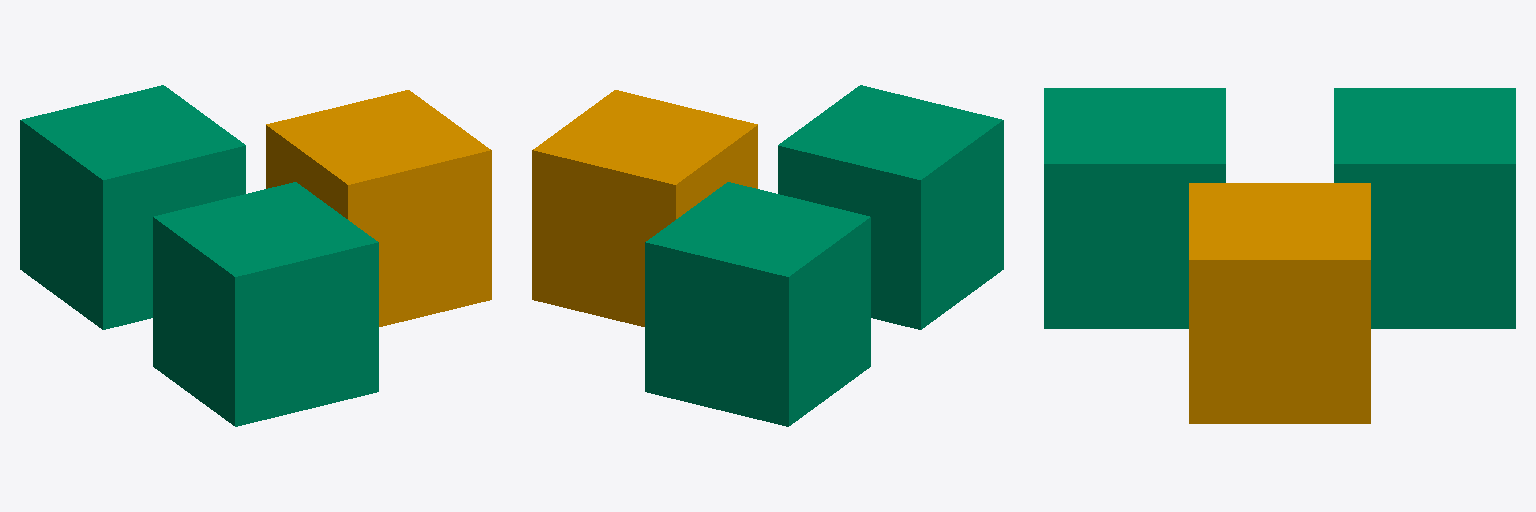
The robot description file, URDF, robot "meshes":
<?xml version="1.0"?>
<robot name="meshes">
  <link name="link_mesh_stl">
    <visual>
      <geometry>
        <mesh filename="assets/box.stl" scale="0.8 0.8 0.8" />
      </geometry>
    </visual>
  </link>
  <link name="link_mesh_obj">
    <visual>
      <geometry>
        <mesh filename="assets/box.obj" scale="0.8 0.8 0.8" />
      </geometry>
    </visual>
    <collision name="collision_box">
      <geometry>
        <mesh filename="assets/box.obj" scale="0.8 0.8 0.8" />
      </geometry>
    </collision>
  </link>
  <link name="link_mesh_multi_objs">
    <visual>
      <geometry>
        <mesh filename="assets/two_boxes.obj" scale="0.8 0.8 0.8" />
      </geometry>
    </visual>
    <collision name="two_collision_boxes">
      <geometry>
        <mesh filename="assets/two_boxes.obj" scale="0.8 0.8 0.8" />
      </geometry>
    </collision>
  </link>
  <link name="link_mesh_dae">
    <visual>
      <geometry>
        <mesh filename="assets/box.dae" scale="0.8 0.8 0.8" />
      </geometry>
    </visual>
    <collision name="collision_box">
      <geometry>
        <mesh filename="assets/box.dae" scale="0.8 0.8 0.8" />
      </geometry>
    </collision>
  </link>
  <link name="link_mesh_dae_unit_cm">
    <visual>
      <geometry>
        <mesh filename="assets/box_unit_cm.dae" scale="0.8 0.8 0.8" />
      </geometry>
    </visual>
  </link>
  <link name="link_two_meshes_dae">
    <visual>
      <geometry>
        <mesh filename="assets/two_meshes.dae" scale="0.6 0.6 0.6" />
      </geometry>
    </visual>
  </link>
  <link name="link_two_meshes_triangle_dae">
    <visual>
      <geometry>
        <mesh filename="assets/two_meshes_triangle.dae" scale="0.6 0.6 0.6" />
      </geometry>
    </visual>
  </link>
  <link name="link_mesh_dxf"> <!-- Unsupported formats -->
    <visual>
      <geometry>
        <mesh filename="assets/box.dxf" scale="0.8 0.8 0.8" />
      </geometry>
    </visual>
  </link>

  <joint name="joint_stl_obj" type="fixed">
    <origin rpy="0 0 0" xyz="1 0 0"/>
    <parent link="link_mesh_stl"/>
    <child link="link_mesh_obj"/>
  </joint>

  <!-- unsupported format (dxf) -->
  <joint name="joint_stl_dxf" type="fixed">
    <origin rpy="0 0 0" xyz="-1 0 0"/>
    <parent link="link_mesh_stl"/>
    <child link="link_mesh_dxf"/>
  </joint>

  <!-- Verify that the multi-object mesh is converted correctly. -->
  <joint name="joint_obj_multi_objs" type="fixed">
    <origin rpy="0 0 0" xyz="-1 0 0"/>
    <parent link="link_mesh_stl"/>
    <child link="link_mesh_multi_objs"/>
  </joint>

  <!-- dae mesh conversion -->
  <joint name="joint_stl_dae" type="fixed">
    <origin rpy="0 0 0" xyz="2.0 0 0"/>
    <parent link="link_mesh_stl"/>
    <child link="link_mesh_dae"/>
  </joint>
  <joint name="joint_dae_unit_cm" type="fixed">
    <origin rpy="0 0 0" xyz="1.5 0 0"/>
    <parent link="link_mesh_dae"/>
    <child link="link_mesh_dae_unit_cm"/>
  </joint>
  <joint name="joint_dae_multiple" type="fixed">
    <origin rpy="0 0 1.570796" xyz="3.0 0 0"/>
    <parent link="link_mesh_dae"/>
    <child link="link_two_meshes_dae"/>
  </joint>
  <joint name="joint_dae_multiple_triangle" type="fixed">
    <origin rpy="0 0 3.1415926" xyz="0 -2.0 0"/>
    <parent link="link_two_meshes_dae"/>
    <child link="link_two_meshes_triangle_dae"/>
  </joint>

</robot>

--- What the picture shows (computed from the rendered views, not written in the file) ---
Views: 3 orthographic renders of the robot side by side, from view 1: azimuth 30°, elevation 25°; view 2: azimuth 150°, elevation 25°; view 3: azimuth 270°, elevation 25°.
Robot: meshes — 8 links, 7 joints (7 fixed); root link link_mesh_stl; default pose: every joint at zero.
Visible links, largest first — view 1: link_mesh_multi_objs, link_mesh_stl; view 2: link_mesh_multi_objs, link_mesh_stl; view 3: link_mesh_multi_objs, link_mesh_stl.
Link boxes in pixels (x1=…): link_mesh_multi_objs: x1=20, y1=85, x2=378, y2=426; link_mesh_stl: x1=266, y1=90, x2=491, y2=326; link_mesh_multi_objs: x1=645, y1=85, x2=1003, y2=426; link_mesh_stl: x1=532, y1=90, x2=757, y2=326; link_mesh_multi_objs: x1=1044, y1=88, x2=1515, y2=328; link_mesh_stl: x1=1189, y1=183, x2=1370, y2=423.
Bounding box of the posed robot: 1.8 × 2.08 × 0.8 m (x, y, z).
2 mesh visuals loaded from 8 distinct referenced files (1 ASCII STL, 1 OBJ); not drawn: 6 (reference not matched to a file when rendering).